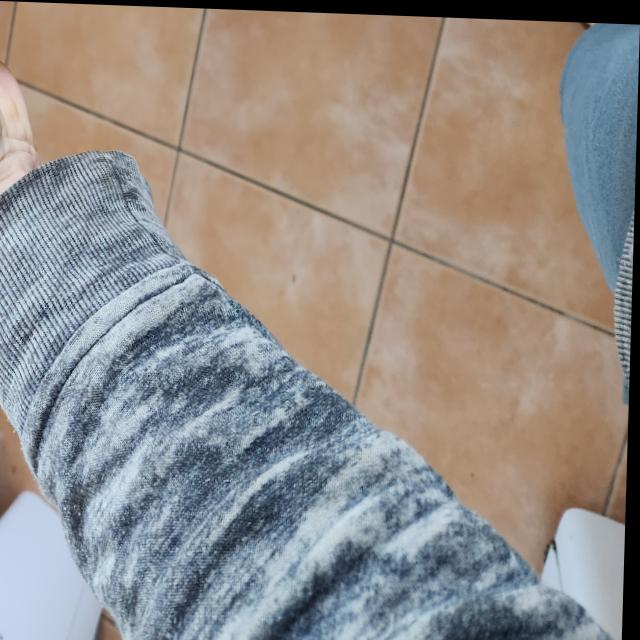olive oil: (0, 0, 115, 23)
